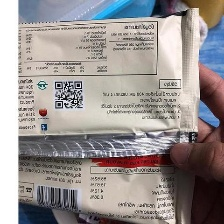snack: (18, 2, 212, 224)
